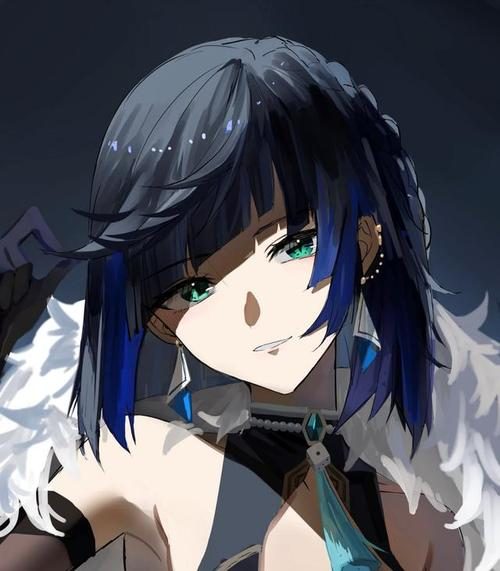夜兰: (3, 33, 495, 570)
